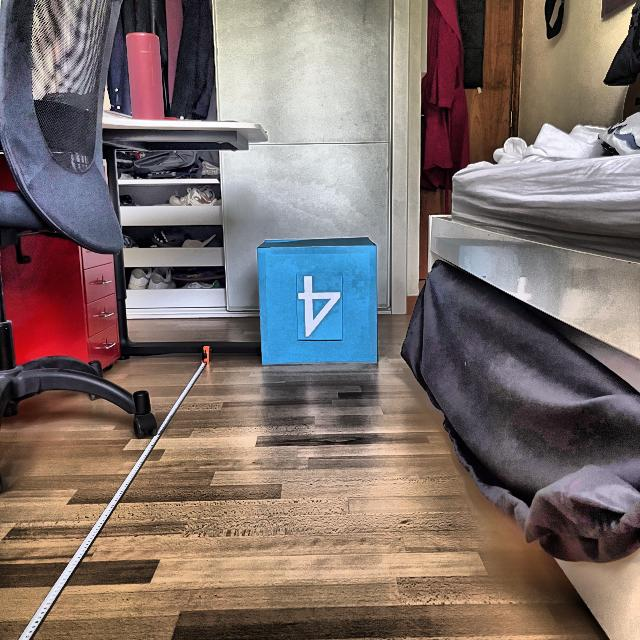blue box: (255, 235, 380, 368)
four: (296, 276, 342, 338)
